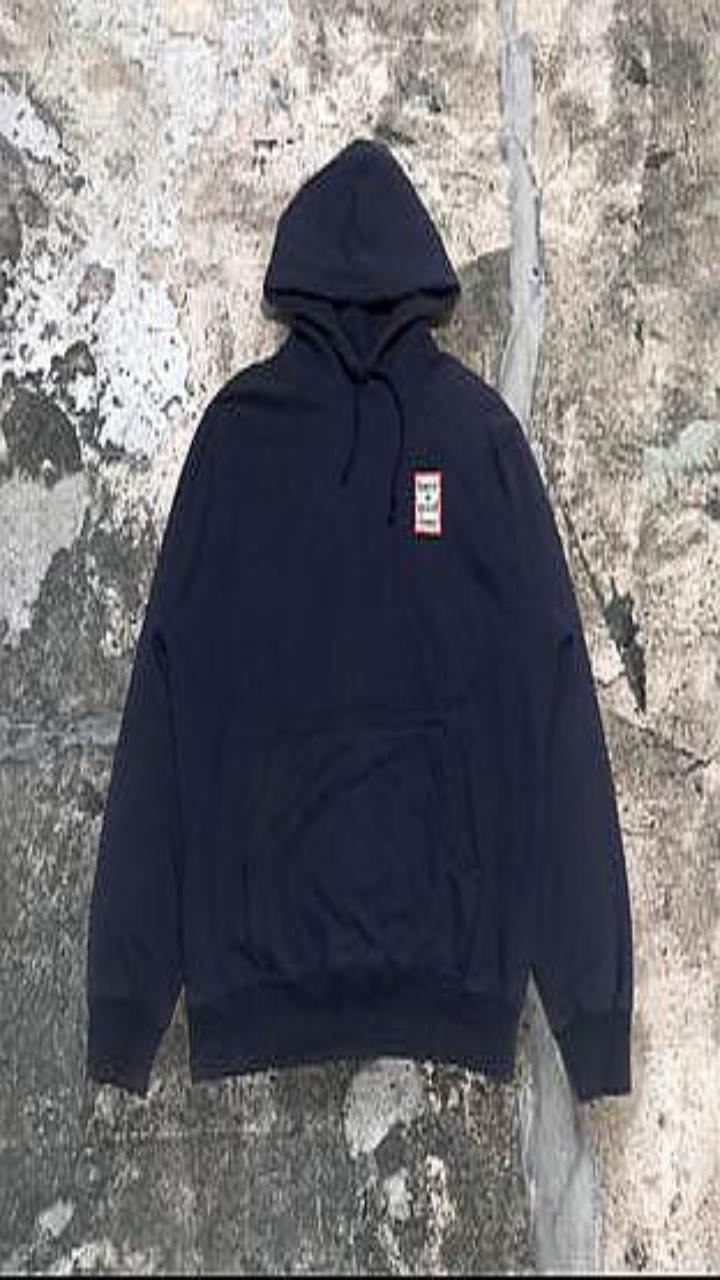Hoodie: (88, 141, 631, 1099)
